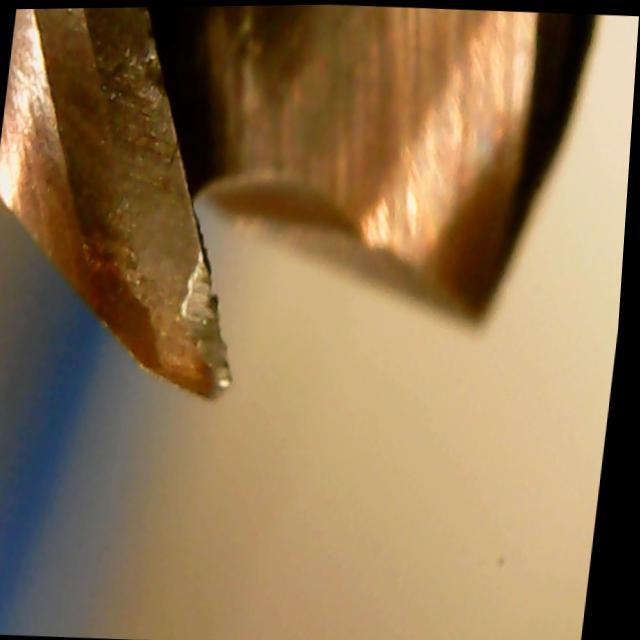Tool-wear-class-1: (92, 92, 280, 413)
